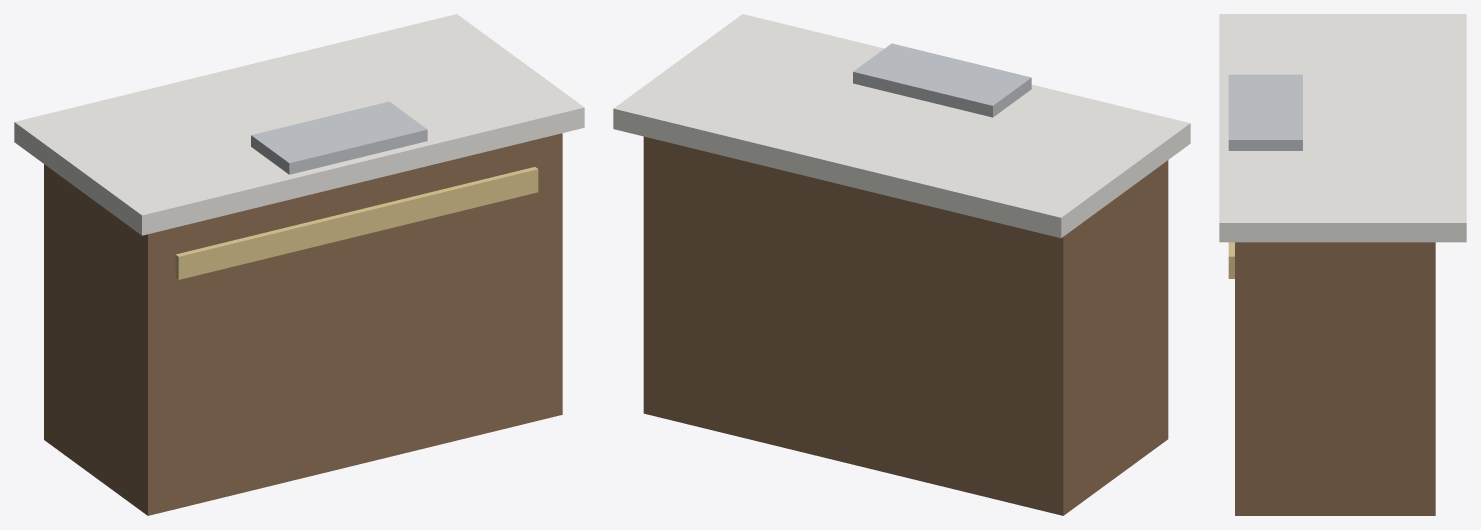
File: bank-vault-heist-kit-teller-counter-448f51d6__25086.glb
3 renders of one model, left to right at view 1: azimuth 30°, elevation 25°; view 2: azimuth 150°, elevation 25°; view 3: azimuth 270°, elevation 25°, orthographic. The views are drawn at different scales.
Parts seen in each view (by area): view 1: teller-counter; view 2: teller-counter; view 3: teller-counter.
Part boxes in pixels (x1,y1,x2,y2): teller-counter: (14, 14, 584, 515); teller-counter: (613, 14, 1190, 515); teller-counter: (1219, 14, 1466, 515).
Size of the model in its own units: 1.6 by 1.11 by 0.8001.
